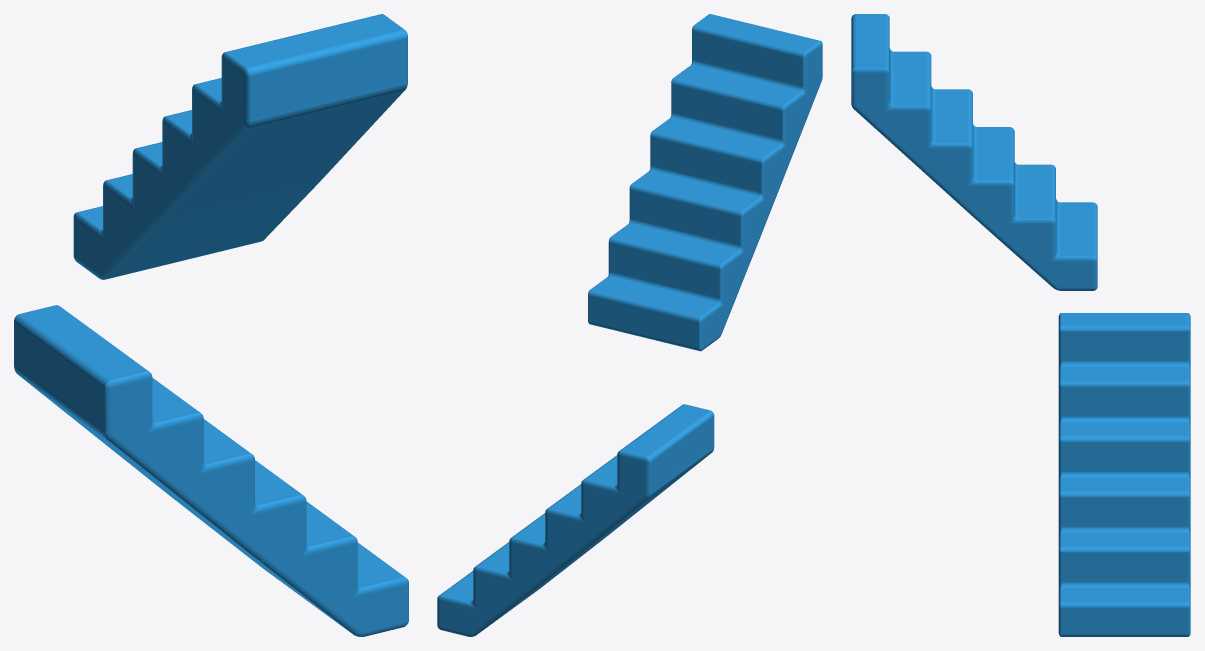
File: steps2.glb
3 renders of one model, left to right at view 1: azimuth 30°, elevation 25°; view 2: azimuth 150°, elevation 25°; view 3: azimuth 270°, elevation 25°, orthographic. The views are drawn at different scales.
Parts seen in each view (by area): view 1: Cube.005, Cube; view 2: Cube.005, Cube; view 3: Cube, Cube.005.
Boxes of the visible parts, <box> form: Cube.005: <box>73,14,407,279</box>; Cube: <box>14,305,408,636</box>; Cube.005: <box>588,14,822,351</box>; Cube: <box>437,404,714,636</box>; Cube: <box>1058,313,1190,636</box>; Cube.005: <box>851,14,1097,290</box>.
Size of the model in its own units: 1.8 by 4.08 by 2.42.
